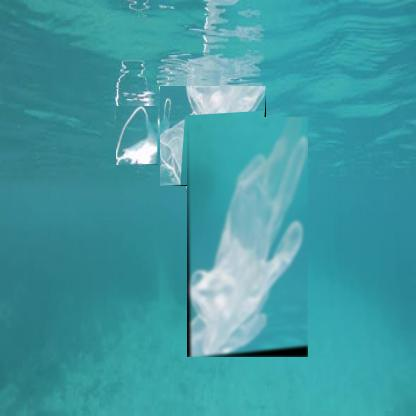waste: (187, 117, 309, 358), (160, 86, 267, 187), (116, 106, 159, 166)
